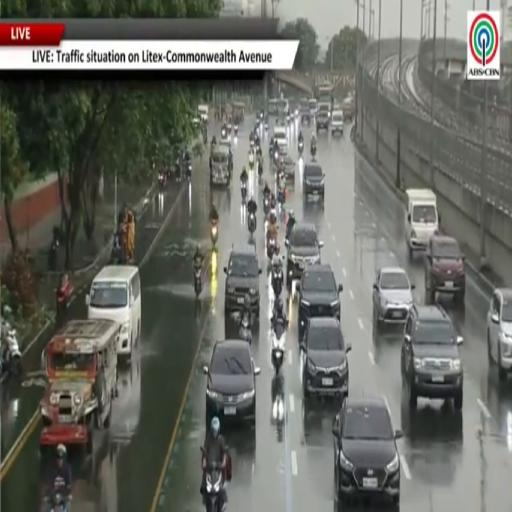car: (333, 396, 402, 510), (401, 304, 463, 410), (203, 340, 260, 426), (300, 317, 351, 398), (297, 264, 342, 340), (425, 235, 465, 303), (224, 244, 261, 317), (285, 221, 323, 292), (373, 267, 414, 327), (487, 288, 511, 380), (303, 162, 324, 203), (280, 149, 295, 182), (219, 140, 233, 172), (331, 110, 344, 135), (316, 110, 330, 133)
jeepney: (40, 319, 119, 452), (210, 144, 230, 186), (279, 148, 295, 183), (219, 140, 233, 172), (233, 102, 245, 124), (268, 99, 278, 115)
motorcycle: (0, 319, 22, 376), (204, 461, 226, 511), (271, 319, 285, 375), (56, 284, 72, 328), (43, 491, 69, 511), (271, 262, 284, 296), (239, 314, 251, 343), (267, 237, 278, 261), (194, 266, 202, 297), (210, 221, 218, 247), (248, 214, 256, 235), (277, 186, 285, 207), (158, 172, 166, 188), (241, 182, 247, 203), (264, 197, 270, 216), (257, 159, 263, 178), (350, 123, 356, 141), (273, 150, 279, 166), (186, 163, 191, 182), (249, 152, 254, 169), (227, 122, 233, 134), (298, 141, 303, 155), (310, 146, 316, 157), (294, 109, 300, 119), (221, 128, 227, 138), (203, 131, 207, 143), (234, 124, 238, 136), (286, 115, 291, 123), (250, 138, 254, 148), (265, 122, 268, 132)
